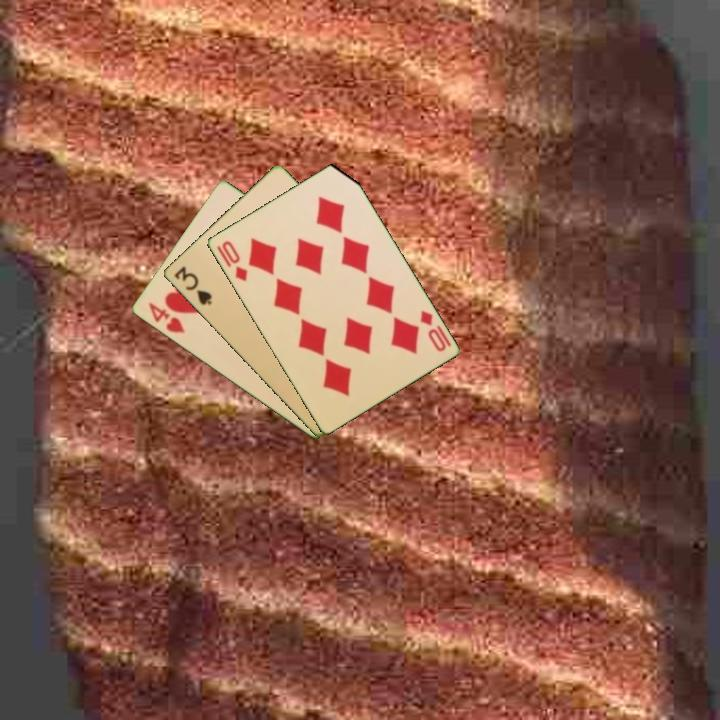10d: (416, 307, 454, 354), (218, 237, 250, 285)
3s: (170, 263, 215, 308)
4h: (144, 299, 188, 336)
